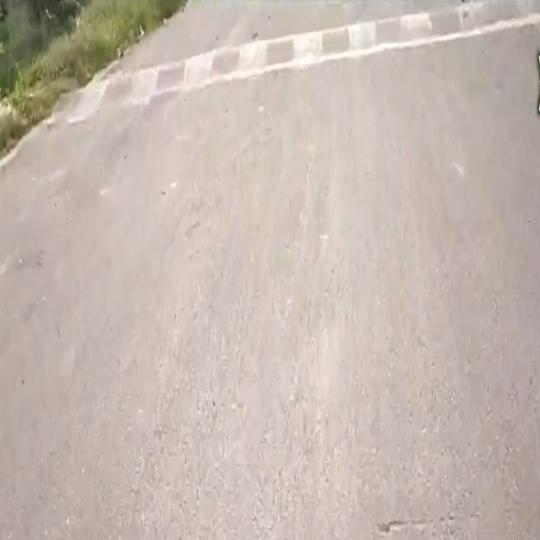Speed Bump: (51, 0, 539, 123)
